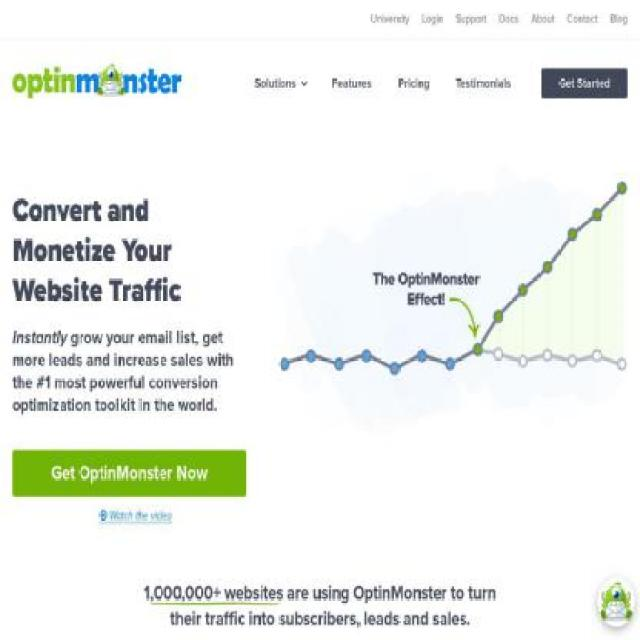button: (12, 449, 246, 497), (542, 68, 628, 99), (99, 508, 172, 524)
